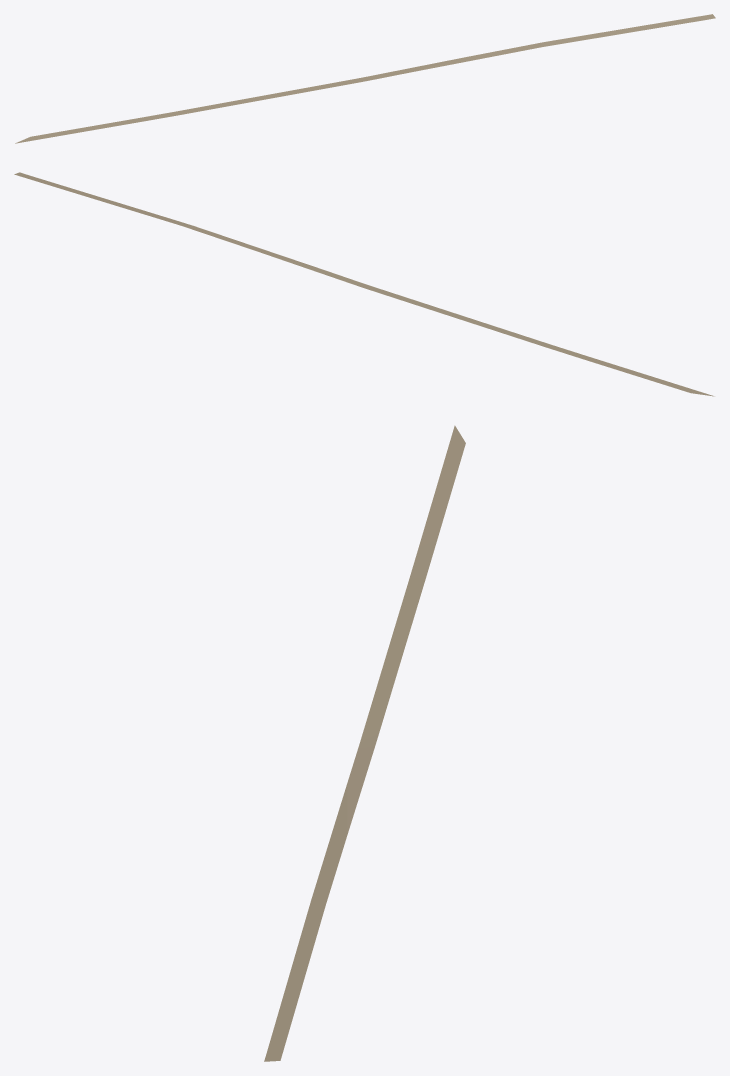
File: farm_-25_-23_track.glb
The picture shows the model from 3 angles, top to bottom: view 1: azimuth 30°, elevation 25°; view 2: azimuth 150°, elevation 25°; view 3: azimuth 270°, elevation 25°; orthographic projection. The views are drawn at different scales.
Parts seen in each view (by area): view 1: geometry_0; view 2: geometry_0; view 3: geometry_0.
Part boxes in pixels (x1,y1,x2,y2): geometry_0: (15,14,715,143); geometry_0: (14,172,714,396); geometry_0: (264,425,465,1061).
Size of the model in its own units: 299 by 1.99 by 39.89.
